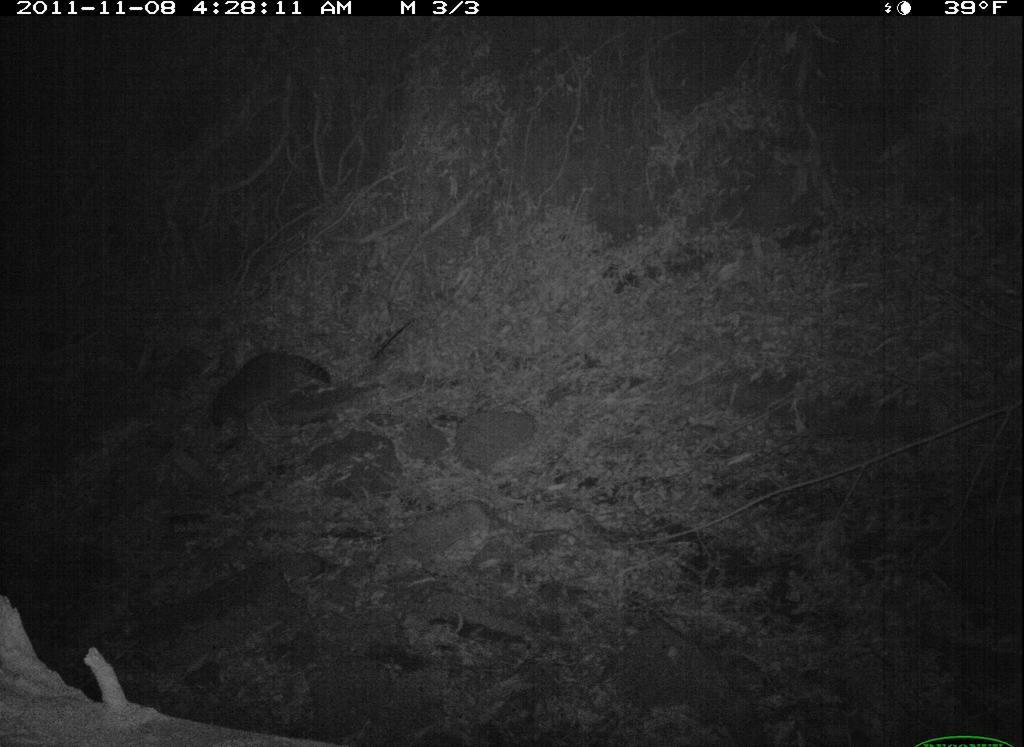raccoon: (196, 335, 343, 448)
